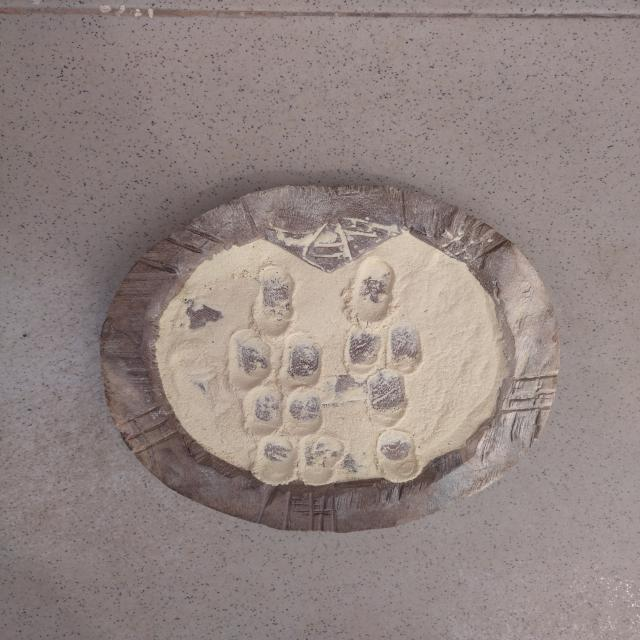double: (232, 330, 324, 393), (243, 384, 330, 437), (258, 434, 344, 483), (346, 323, 424, 377)
single: (252, 264, 298, 336), (350, 260, 398, 326), (366, 366, 412, 428), (372, 427, 422, 476)
